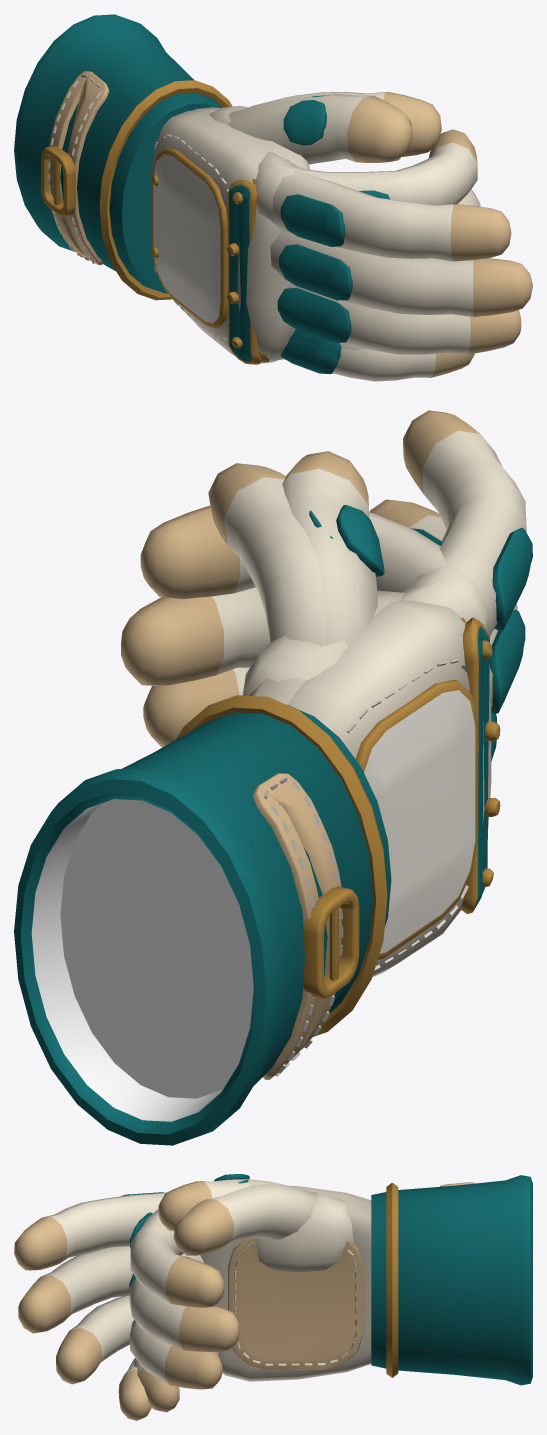
Rendered from glove_R.fbx.
3 renders of one model, top to bottom at view 1: azimuth 30°, elevation 25°; view 2: azimuth 150°, elevation 25°; view 3: azimuth 270°, elevation 25°, orthographic. The views are drawn at different scales.
Visible parts, largest first — view 1: Open, Grip; view 2: Grip, Open; view 3: Grip, Open.
Part boxes in pixels (x1,y1,x2,y2): Open: (151, 94, 532, 381); Grip: (14, 14, 480, 362); Grip: (14, 463, 493, 1145); Open: (282, 410, 532, 977); Grip: (129, 1175, 532, 1412); Open: (14, 1174, 371, 1420).
Size of the model in its own units: 0.0966 by 0.0912 by 0.1855.
